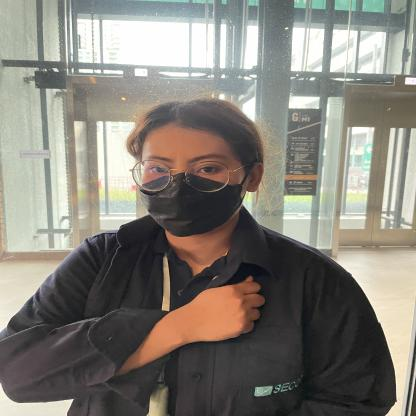Sadness: (51, 260, 289, 387)
